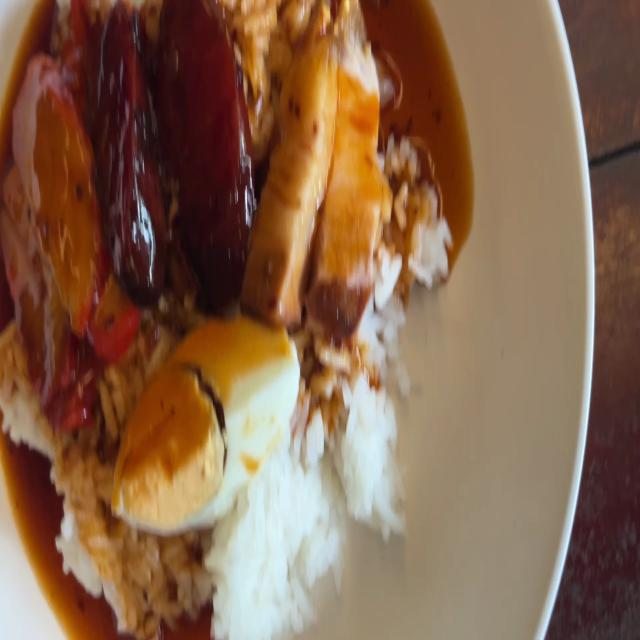red_pork_and_crispy_pork: (115, 320, 292, 534)
stir_fried_basil: (98, 0, 251, 309), (172, 0, 256, 309), (93, 3, 167, 289)
